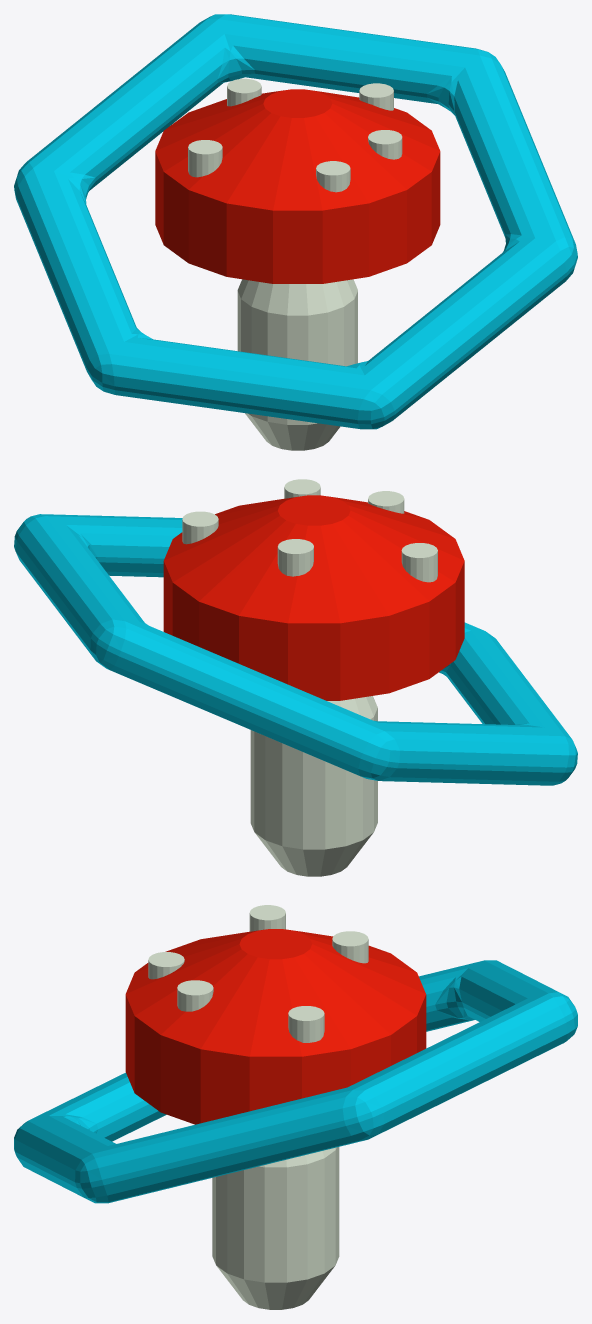
Rendered from meowrush_mushroom.glb.
3 views of the same model, one above another, from view 1: azimuth 30°, elevation 25°; view 2: azimuth 150°, elevation 25°; view 3: azimuth 270°, elevation 25° (orthographic). The views are drawn at different scales.
Parts seen in each view (by area): view 1: Ring.002, Mushroom.002; view 2: Mushroom.002, Ring.002; view 3: Mushroom.002, Ring.002.
Part boxes in pixels (x1,y1,x2,y2): Ring.002: [14, 14, 577, 429]; Mushroom.002: [155, 78, 440, 450]; Mushroom.002: [163, 479, 464, 876]; Ring.002: [14, 514, 577, 785]; Mushroom.002: [125, 905, 426, 1309]; Ring.002: [14, 960, 577, 1203].
Size of the model in its own units: 1.21 by 0.8223 by 1.2.
